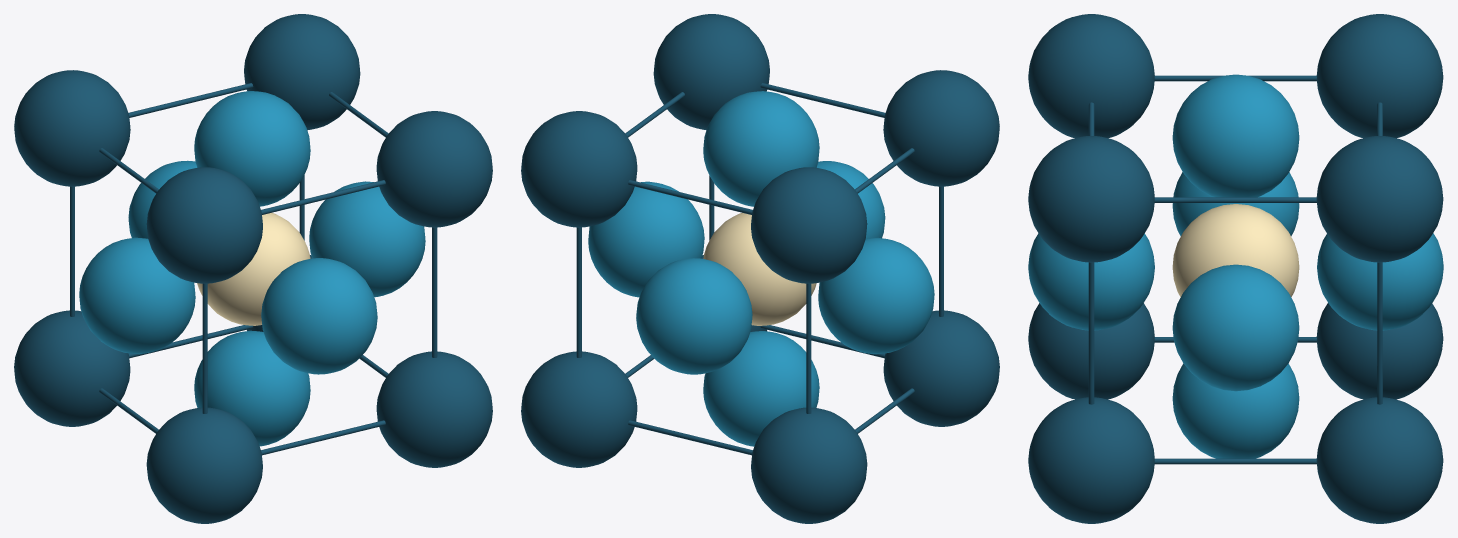
The model's file is jingbao6.gltf.
3 views of the same model, side by side, from view 1: azimuth 30°, elevation 25°; view 2: azimuth 150°, elevation 25°; view 3: azimuth 270°, elevation 25° (orthographic). The views are drawn at different scales.
Parts seen in each view (by area): view 1: Sphere111; view 2: Sphere111; view 3: Sphere111.
Boxes of the visible parts, <box> form: Sphere111: <box>14,14,492,523</box>; Sphere111: <box>521,14,999,523</box>; Sphere111: <box>1028,14,1443,523</box>.
Size of the model in its own units: 72.28 by 72.01 by 72.07.
3 materials, 3 textured.
